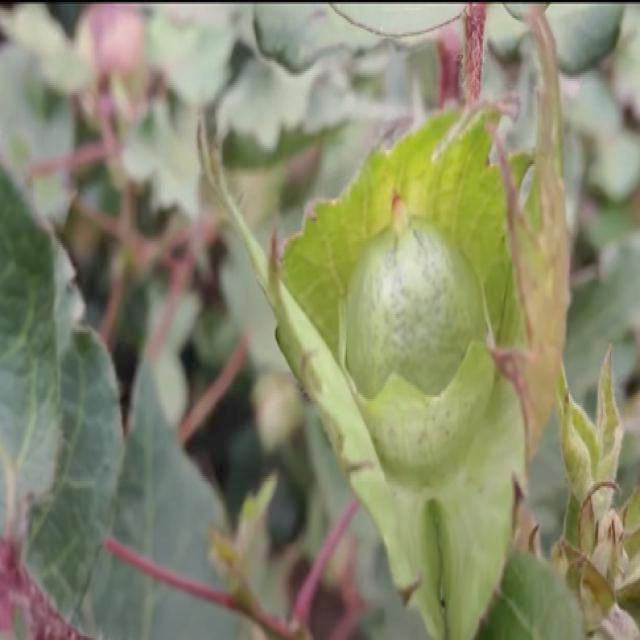Early Boll: (286, 128, 564, 498)
